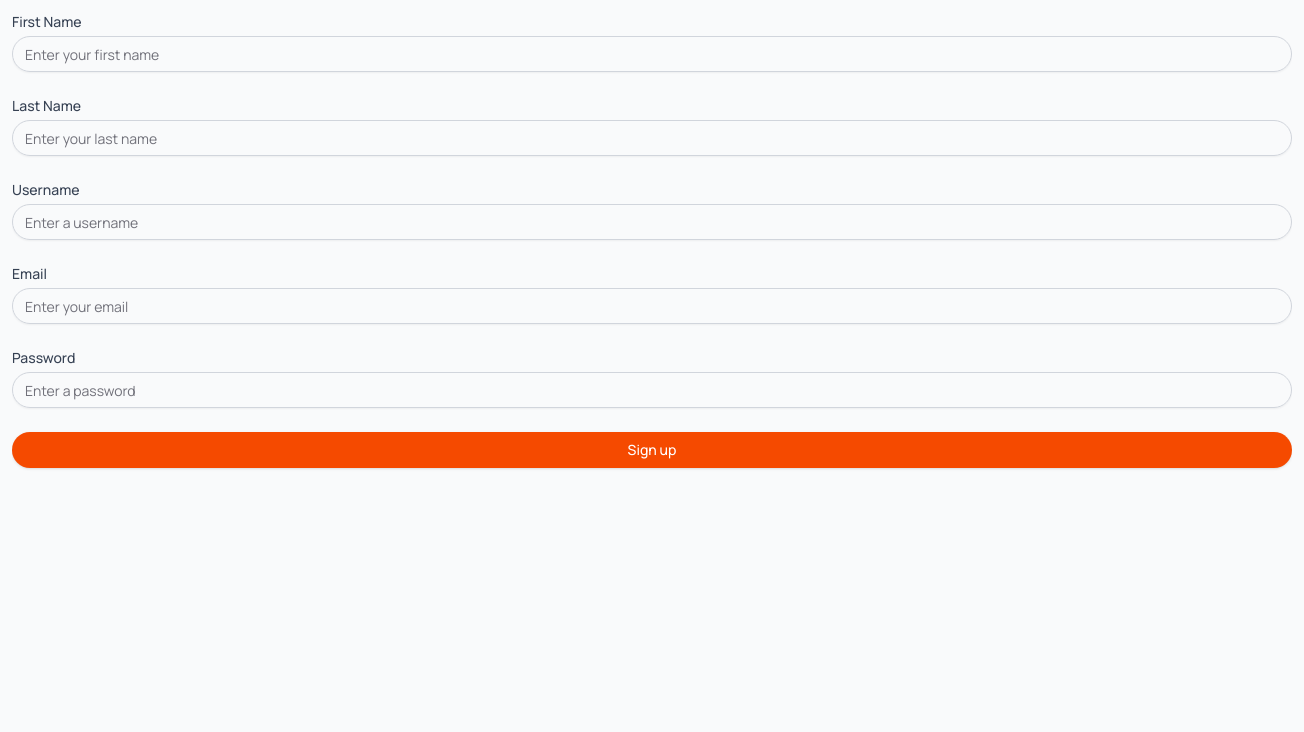
Test: SignupForm Component › should display error message when API returns client error
This screenshot has width=1304, height=732.
In the field with placeholder "Enter your first name": (652, 54) [12,36,1292,72], type "John"
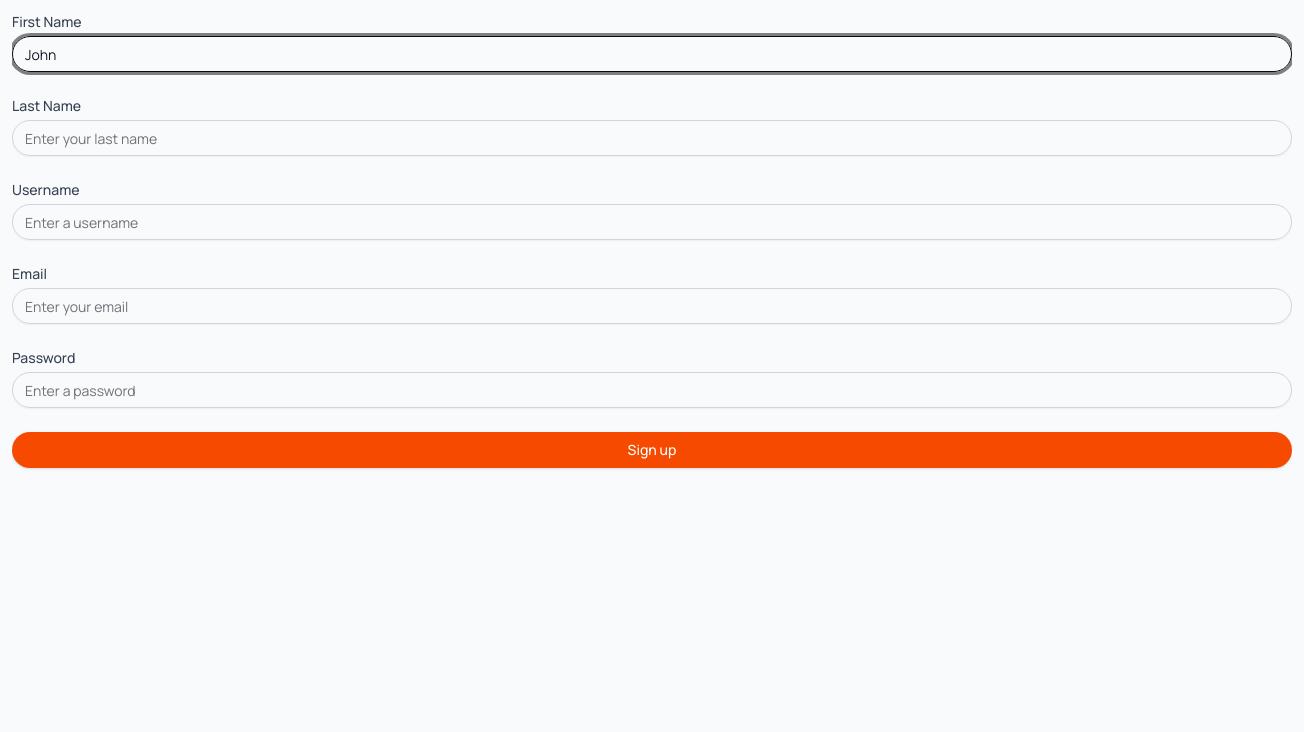
In the field with placeholder "Enter your last name": (652, 138) [12,120,1292,156], type "Doe"
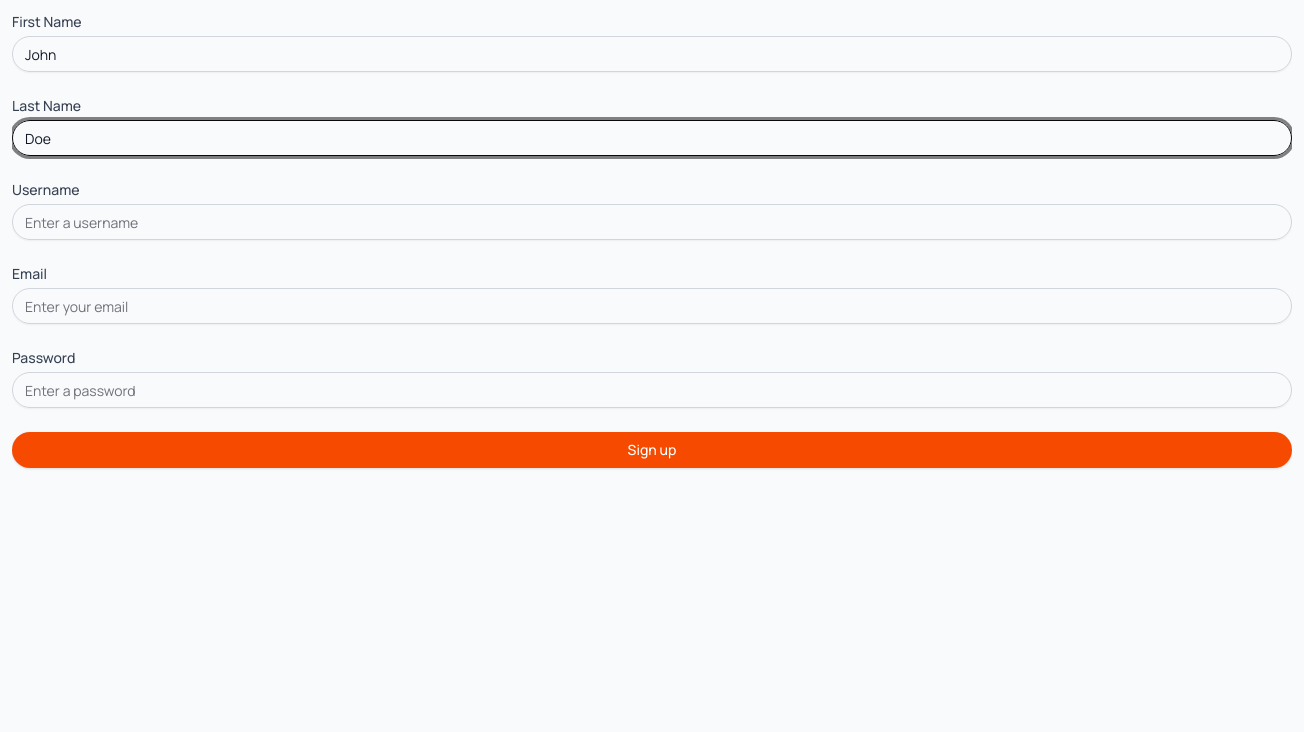
In the field with placeholder "Enter a username": (652, 222) [12,204,1292,240], type "existinguser"
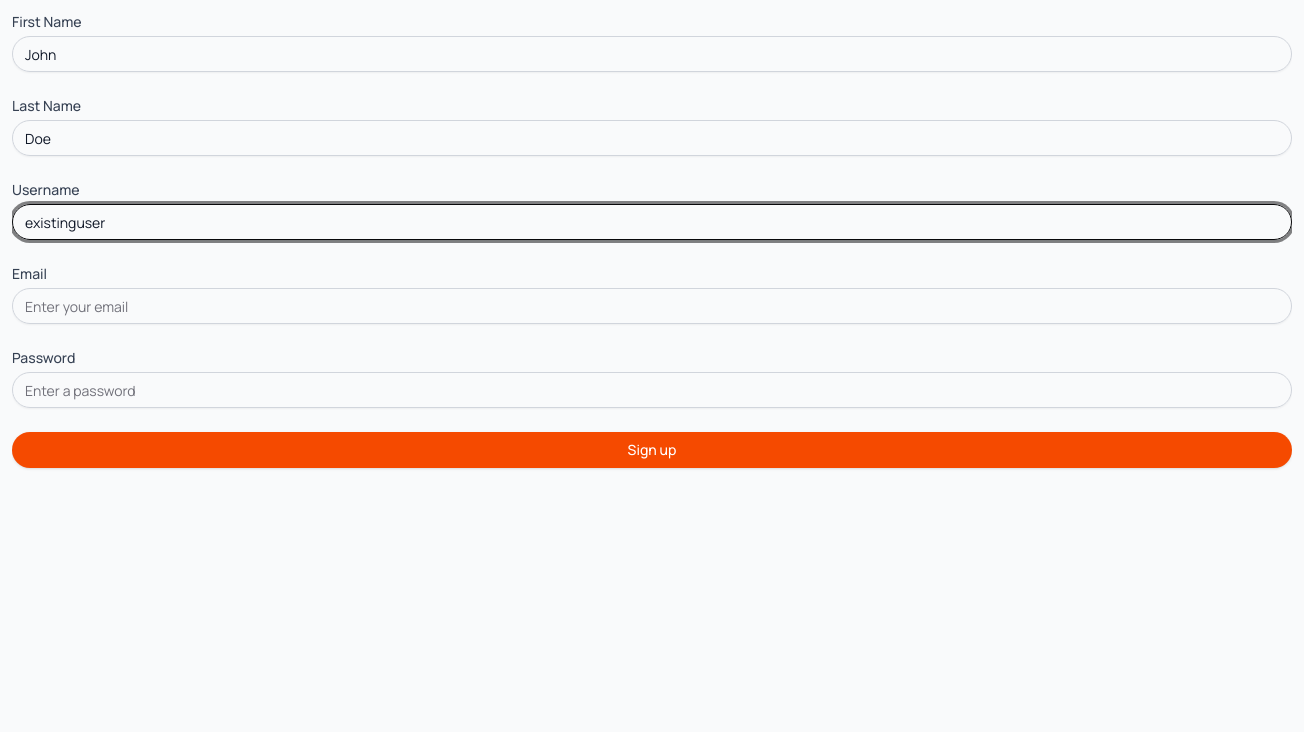
In the field with placeholder "Enter your email": (652, 306) [12,288,1292,324], type "john.doe@example.com"
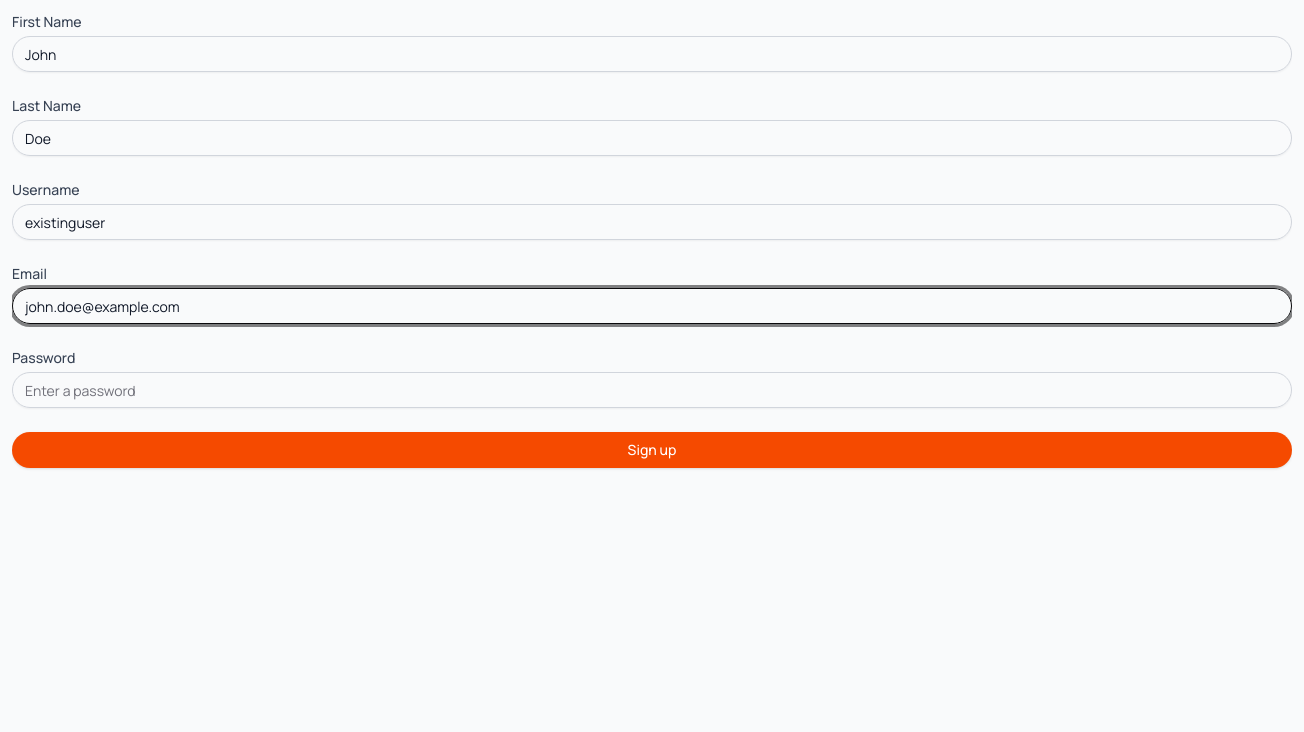
In the password field with placeholder "Enter a password": (652, 390) [12,372,1292,408], type "SecurePassword123"
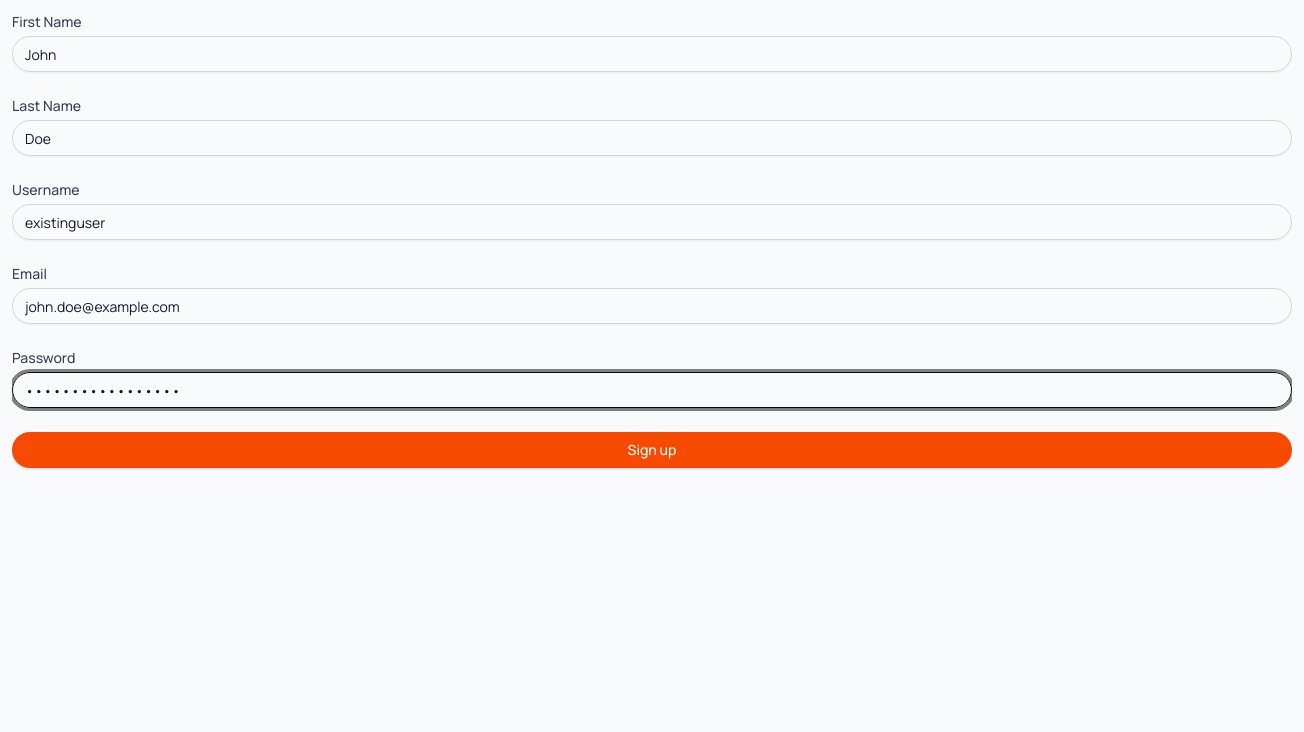
Click the button "Sign up": (652, 450) [12,432,1292,468]
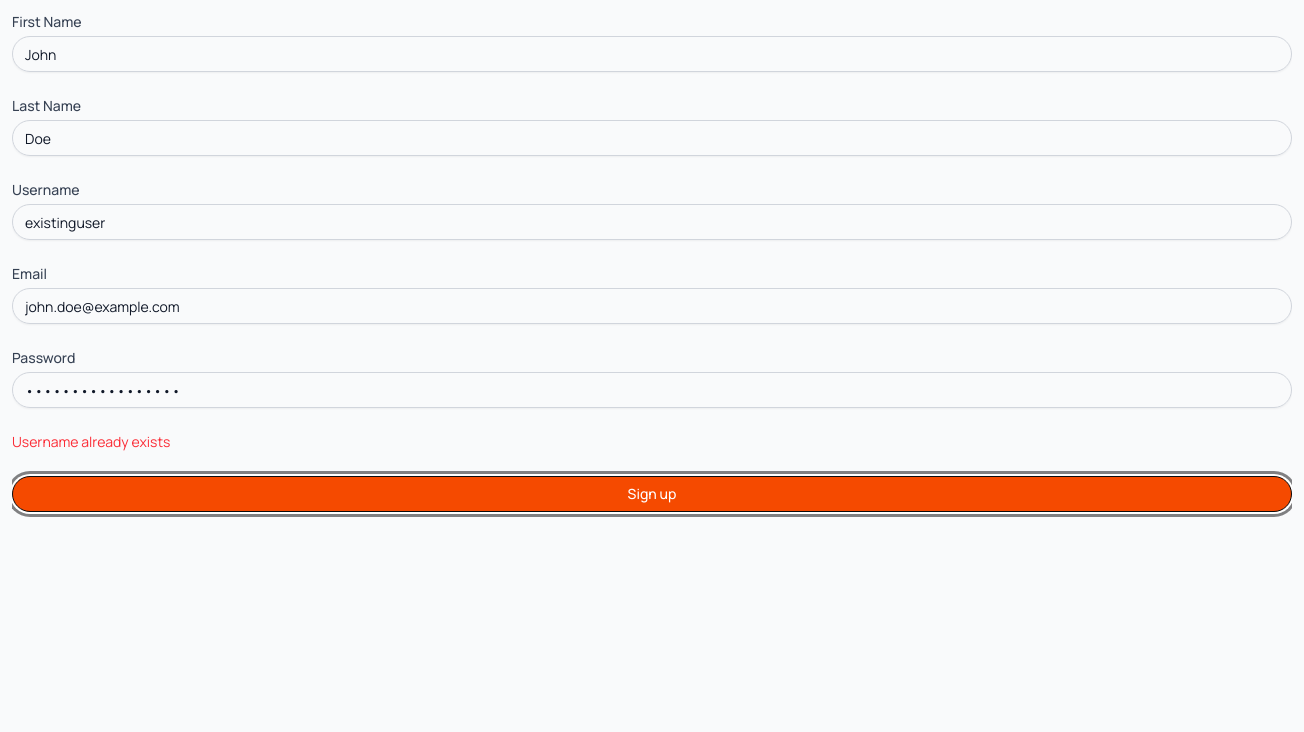
Now the text "Username already exists" is shown, box [12,432,170,451]
